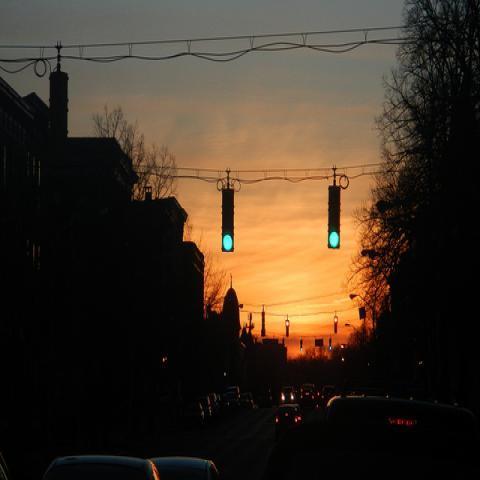car: (265, 413, 480, 477), (321, 392, 477, 421), (217, 384, 335, 412), (41, 455, 161, 479), (150, 456, 223, 479), (275, 404, 298, 440), (184, 402, 205, 419), (198, 396, 212, 418), (280, 386, 296, 403), (246, 392, 259, 410), (301, 383, 315, 399), (295, 404, 303, 429), (208, 392, 218, 409), (240, 393, 250, 408)
truck: (267, 393, 476, 474)
